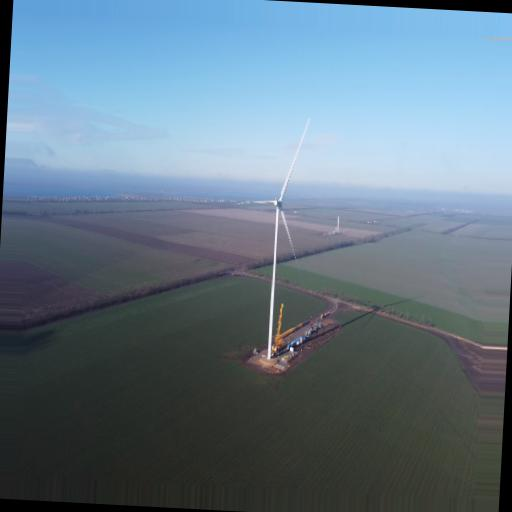wind turbine: (236, 114, 315, 349)
